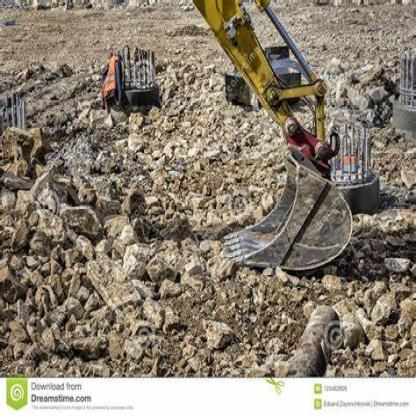excavator: (160, 2, 384, 287)
